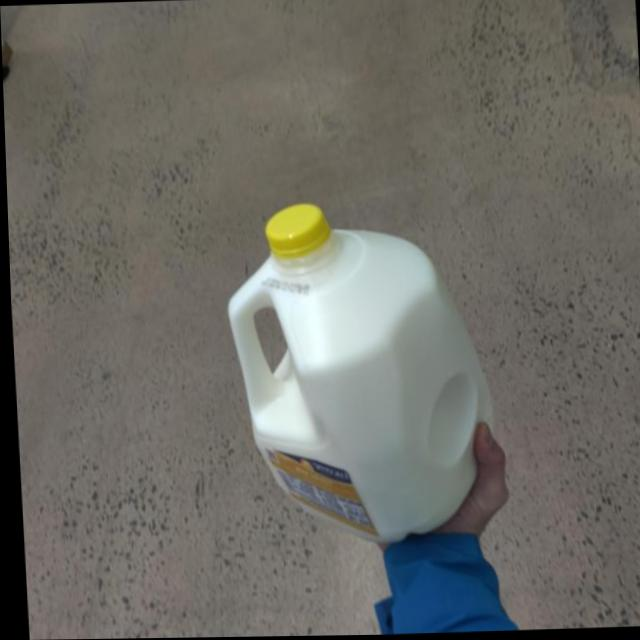Milk: (216, 200, 492, 549)
